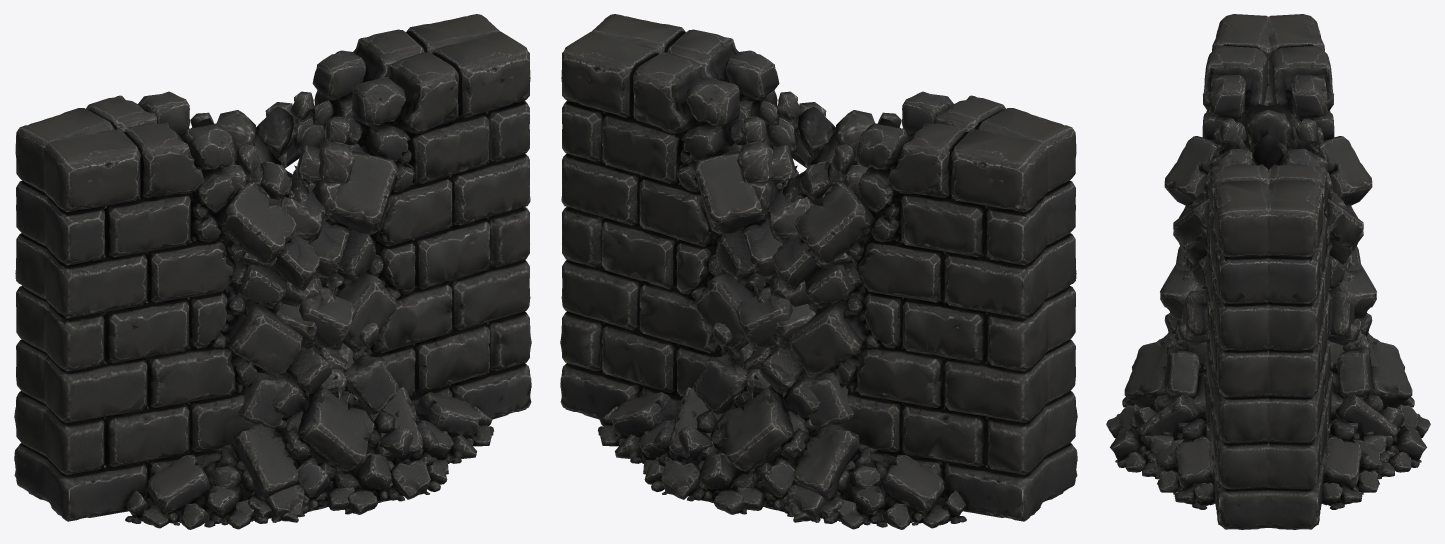
File: collapsed_wall.fbx
3 renders of one model, left to right at view 1: azimuth 30°, elevation 25°; view 2: azimuth 150°, elevation 25°; view 3: azimuth 270°, elevation 25°, orthographic. The views are drawn at different scales.
Visible parts, largest first — view 1: CollapsedWall; view 2: CollapsedWall; view 3: CollapsedWall.
Part boxes in pixels (bbox=[...]): CollapsedWall: bbox=[14, 14, 531, 529]; CollapsedWall: bbox=[560, 14, 1077, 529]; CollapsedWall: bbox=[1106, 14, 1430, 529].
Bounding box in the file's own units: 410 × 305 × 279.
Materials: 1 (1 with a texture image).
